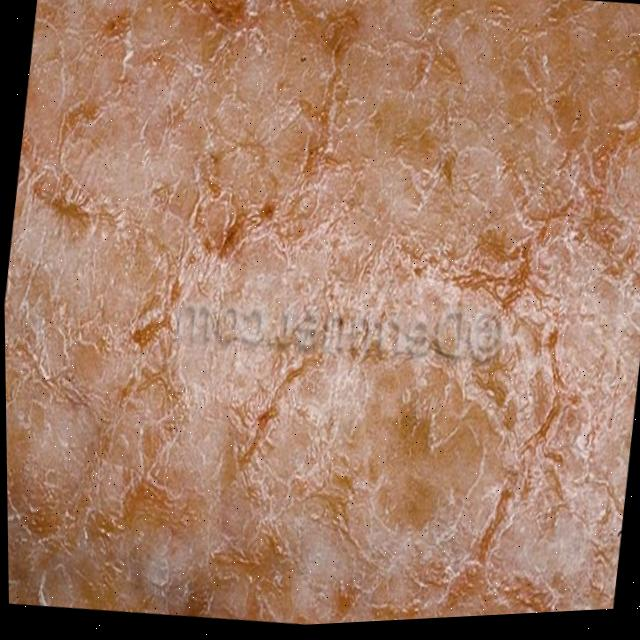Eczema: (23, 0, 640, 639)
